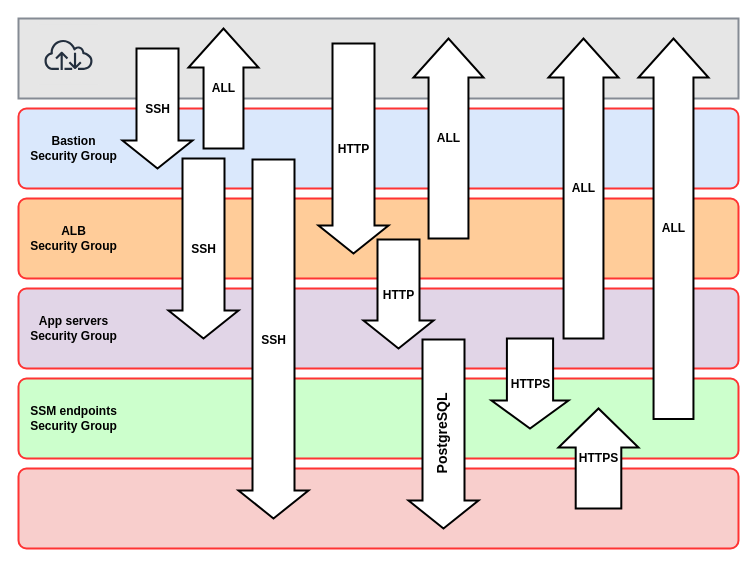
Some shapes in this 756 by 566 pixel diagram are drawn without their labels. Each missing label, with the centre of its shape:
"DB servers Security Group" belongs at point (378, 508).
"Internet" belongs at point (68, 54).
